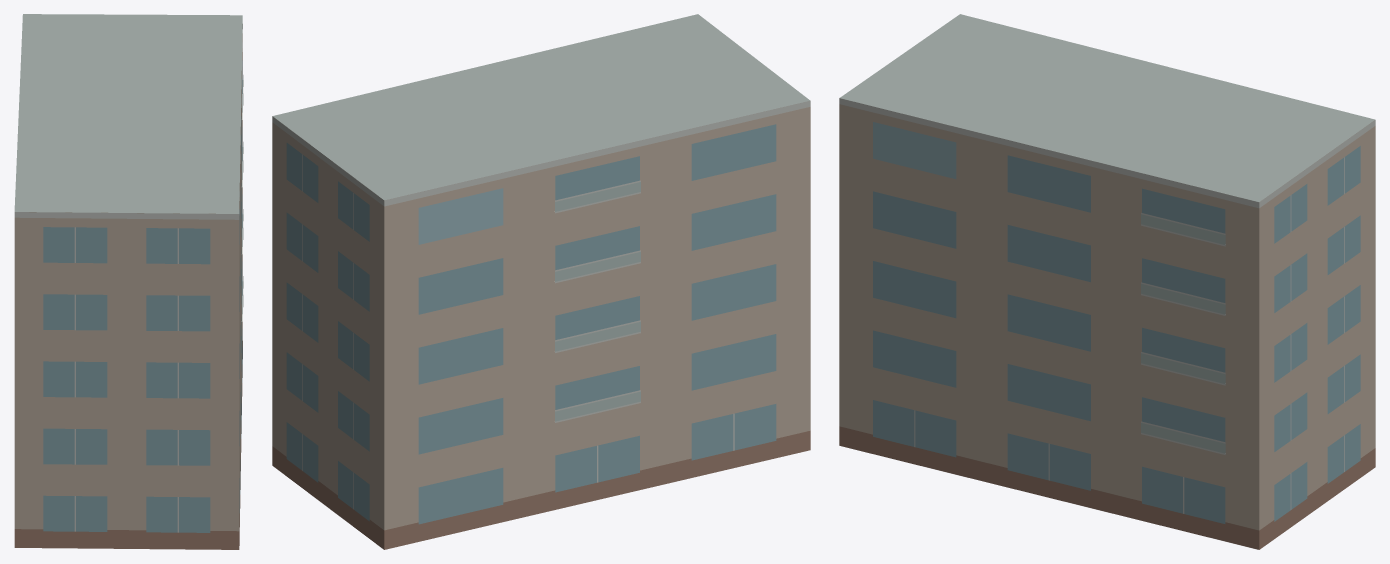
The model's file is survey-upis-32962093.glb.
3 views of the same model, side by side, from view 1: azimuth 30°, elevation 25°; view 2: azimuth 150°, elevation 25°; view 3: azimuth 270°, elevation 25° (orthographic). The views are drawn at different scales.
Visible parts, largest first — view 1: survey-upis-32962093.tmp; view 2: survey-upis-32962093.tmp; view 3: survey-upis-32962093.tmp.
Boxes of the visible parts, x1,y1,x2,y2 form: survey-upis-32962093.tmp: [14, 14, 243, 549]; survey-upis-32962093.tmp: [272, 14, 810, 549]; survey-upis-32962093.tmp: [839, 14, 1375, 549].
Bounding box in the file's own units: 16.27 × 14 × 19.58.
